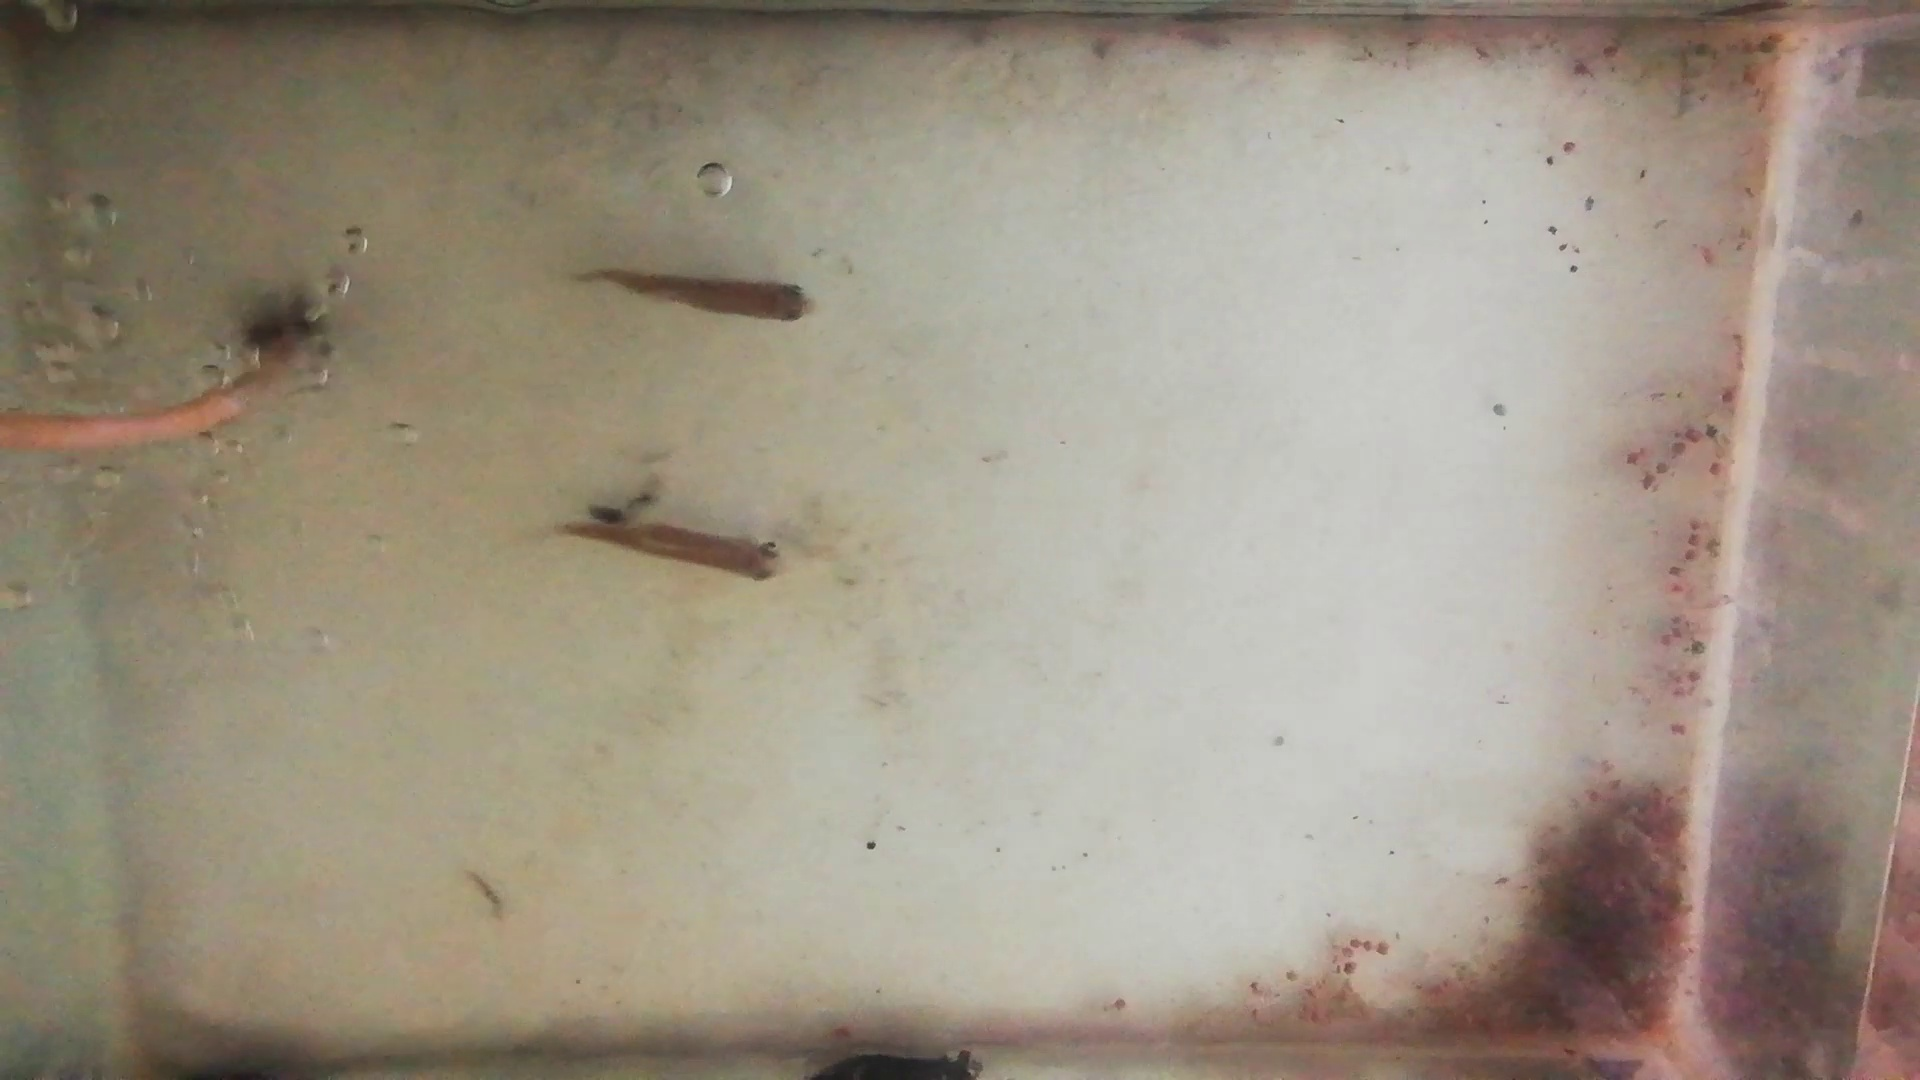fish: (558, 521, 790, 582), (585, 270, 820, 324)
